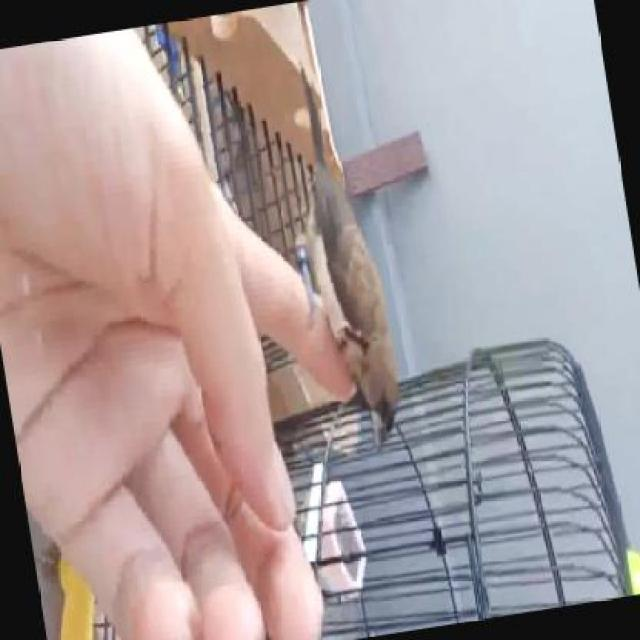Bird: (233, 74, 442, 456)
